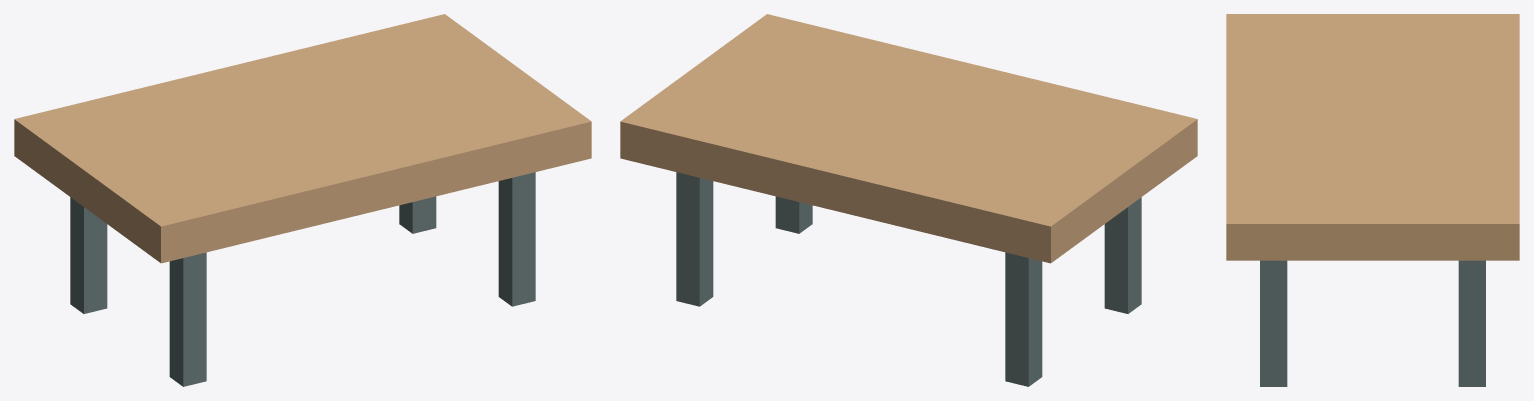
The model's file is coffee-table.glb.
3 views of the same model, side by side, from view 1: azimuth 30°, elevation 25°; view 2: azimuth 150°, elevation 25°; view 3: azimuth 270°, elevation 25° (orthographic).
Bounding box in the file's own units: 1.1 × 0.445 × 0.65.
